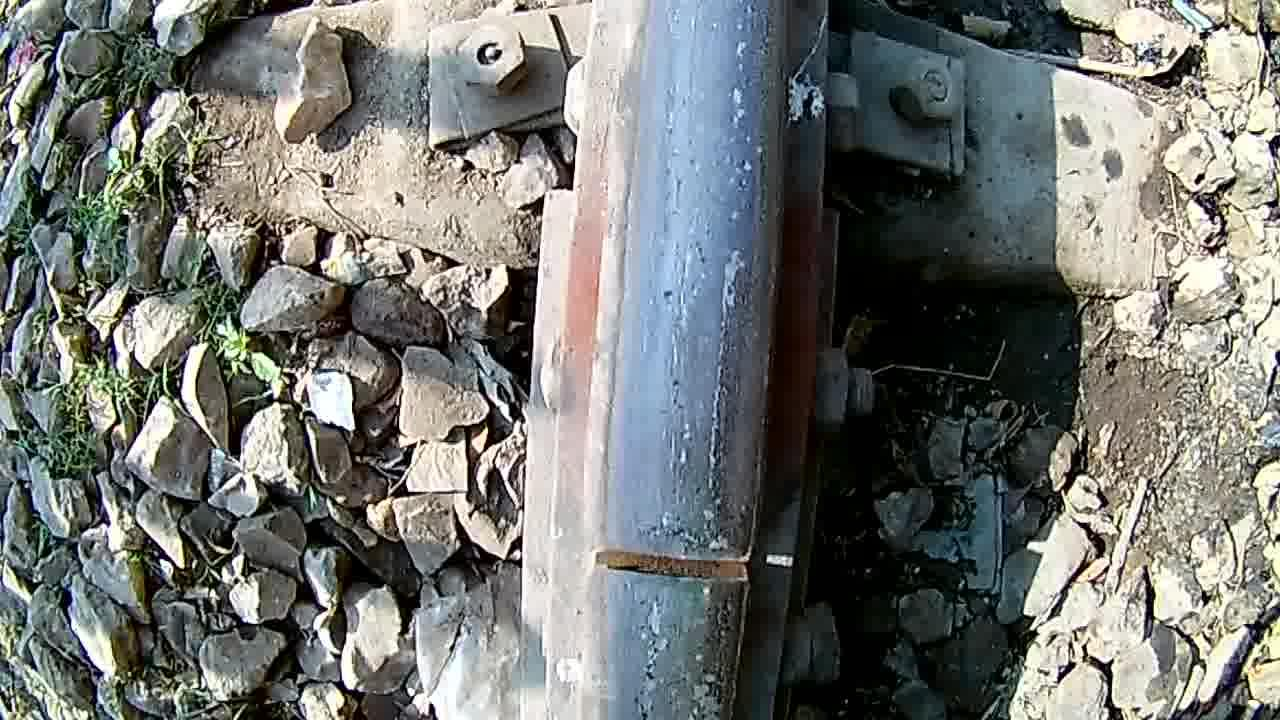clip_missing: (621, 3, 790, 537)
